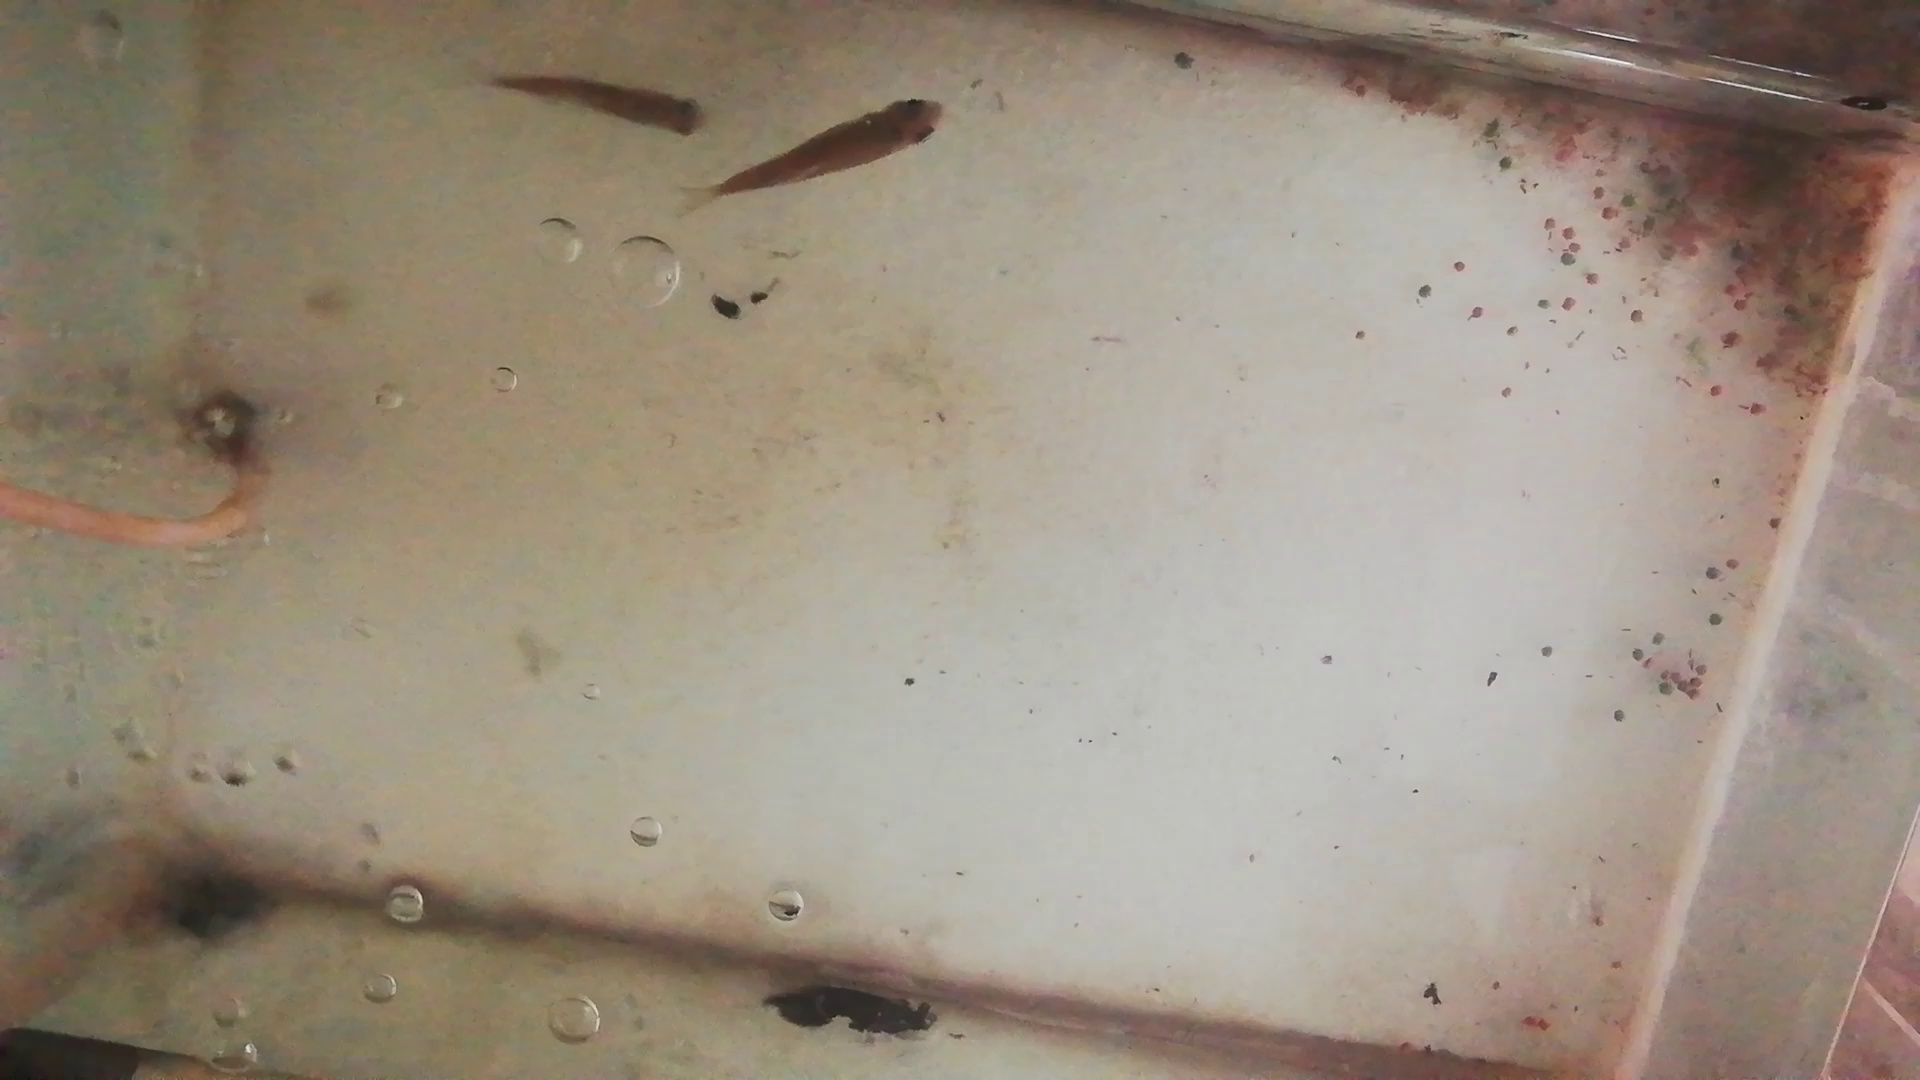fish: (715, 98, 952, 198), (491, 70, 708, 146)
